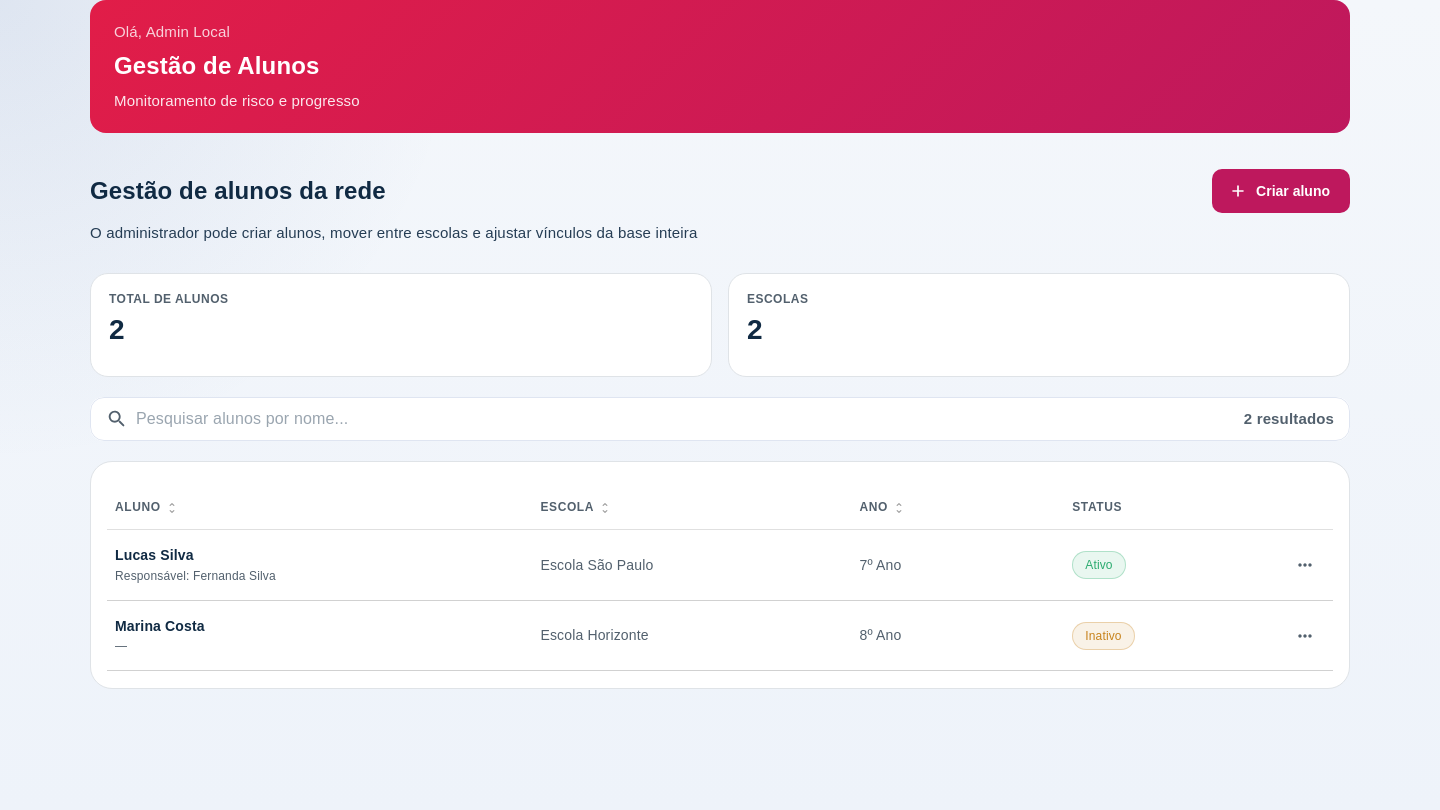
Test: StudentsPage opens delete modal
This screenshot has width=1440, height=810.
Click the button with test id "student-menu-1" at (1305, 565), box [1290,550,1320,580]
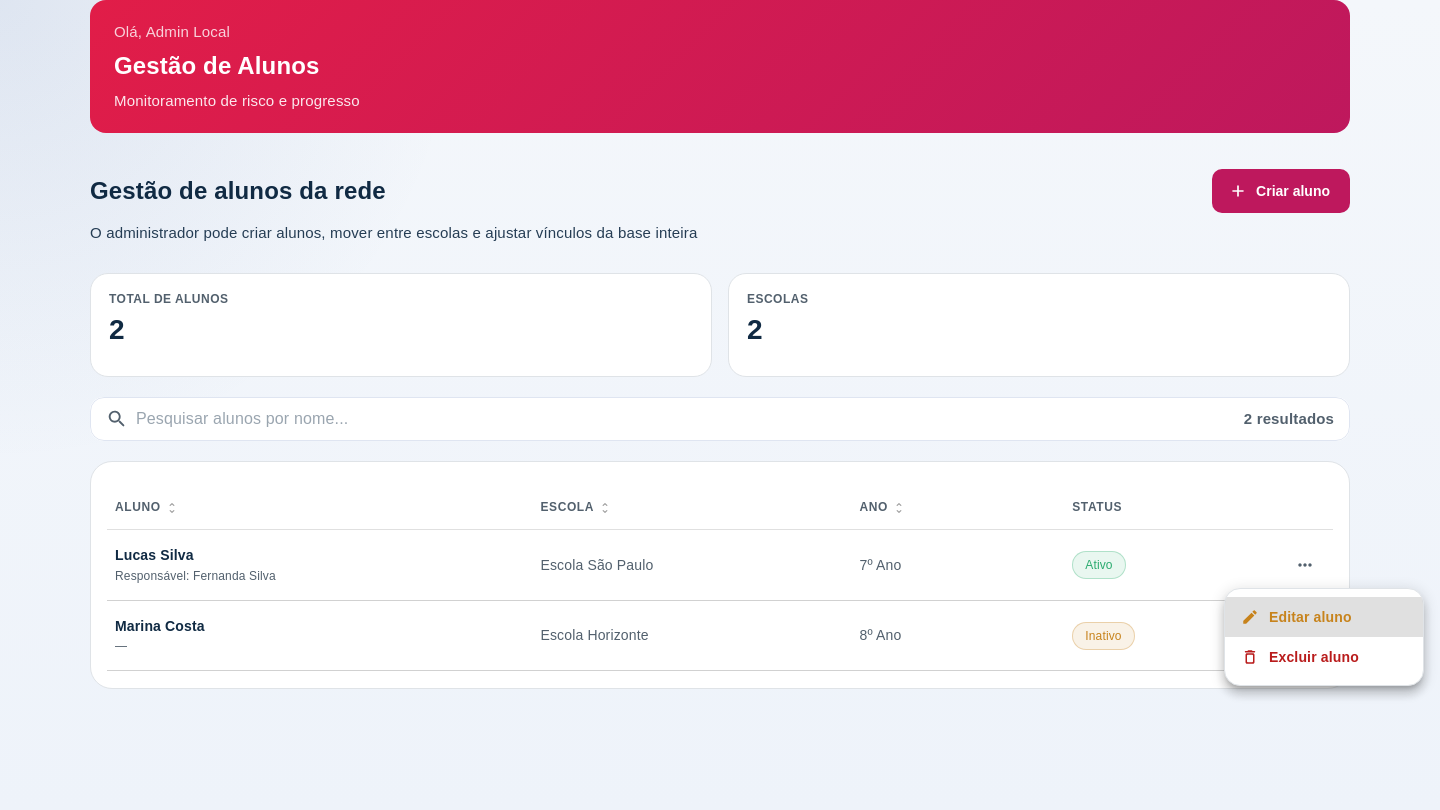
Click the menu item with test id "delete-student-action" at (1300, 657), box [1241,648,1359,666]
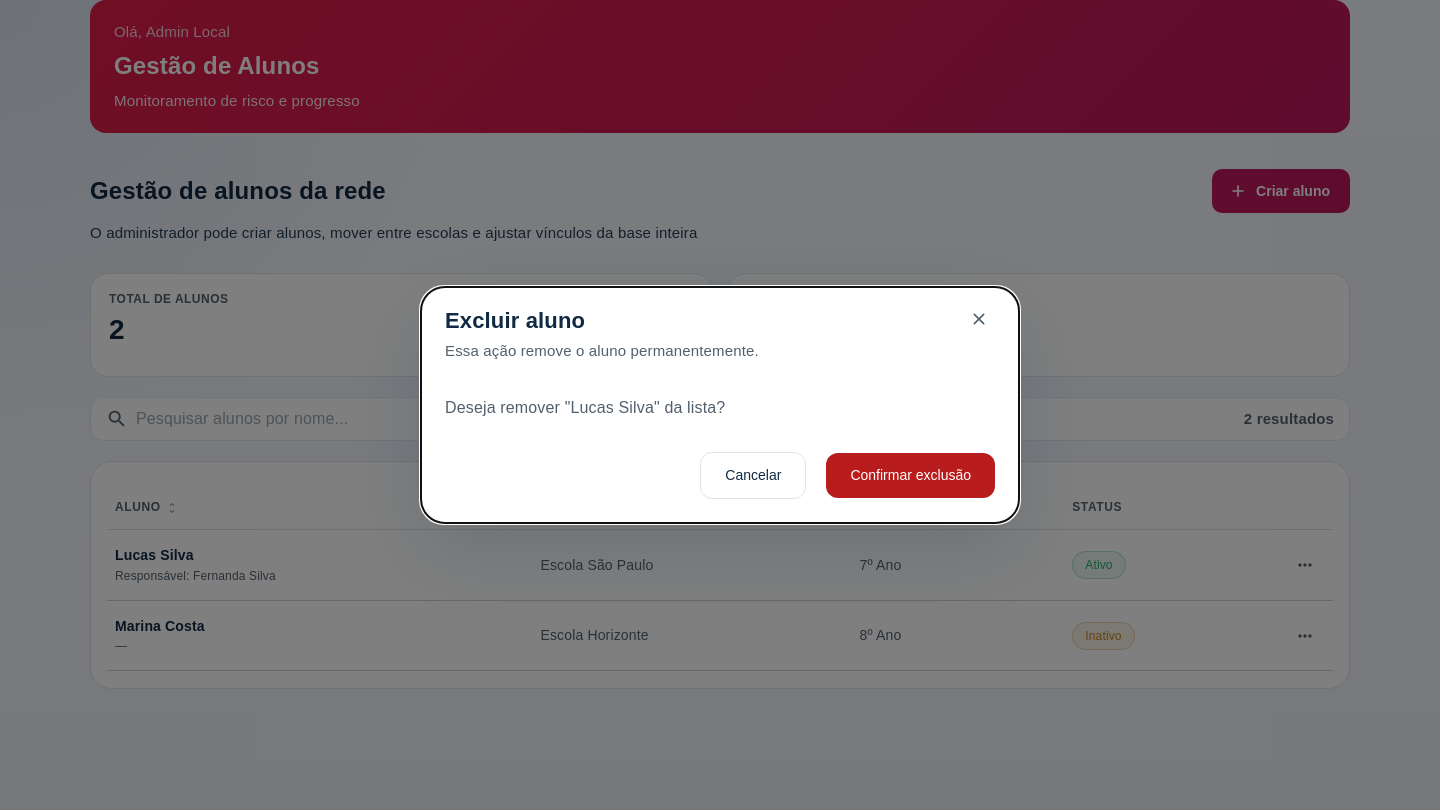
Expected: the text "Deseja remover \"Lucas Silva\" da lista?" is shown, [445,398,725,416]
